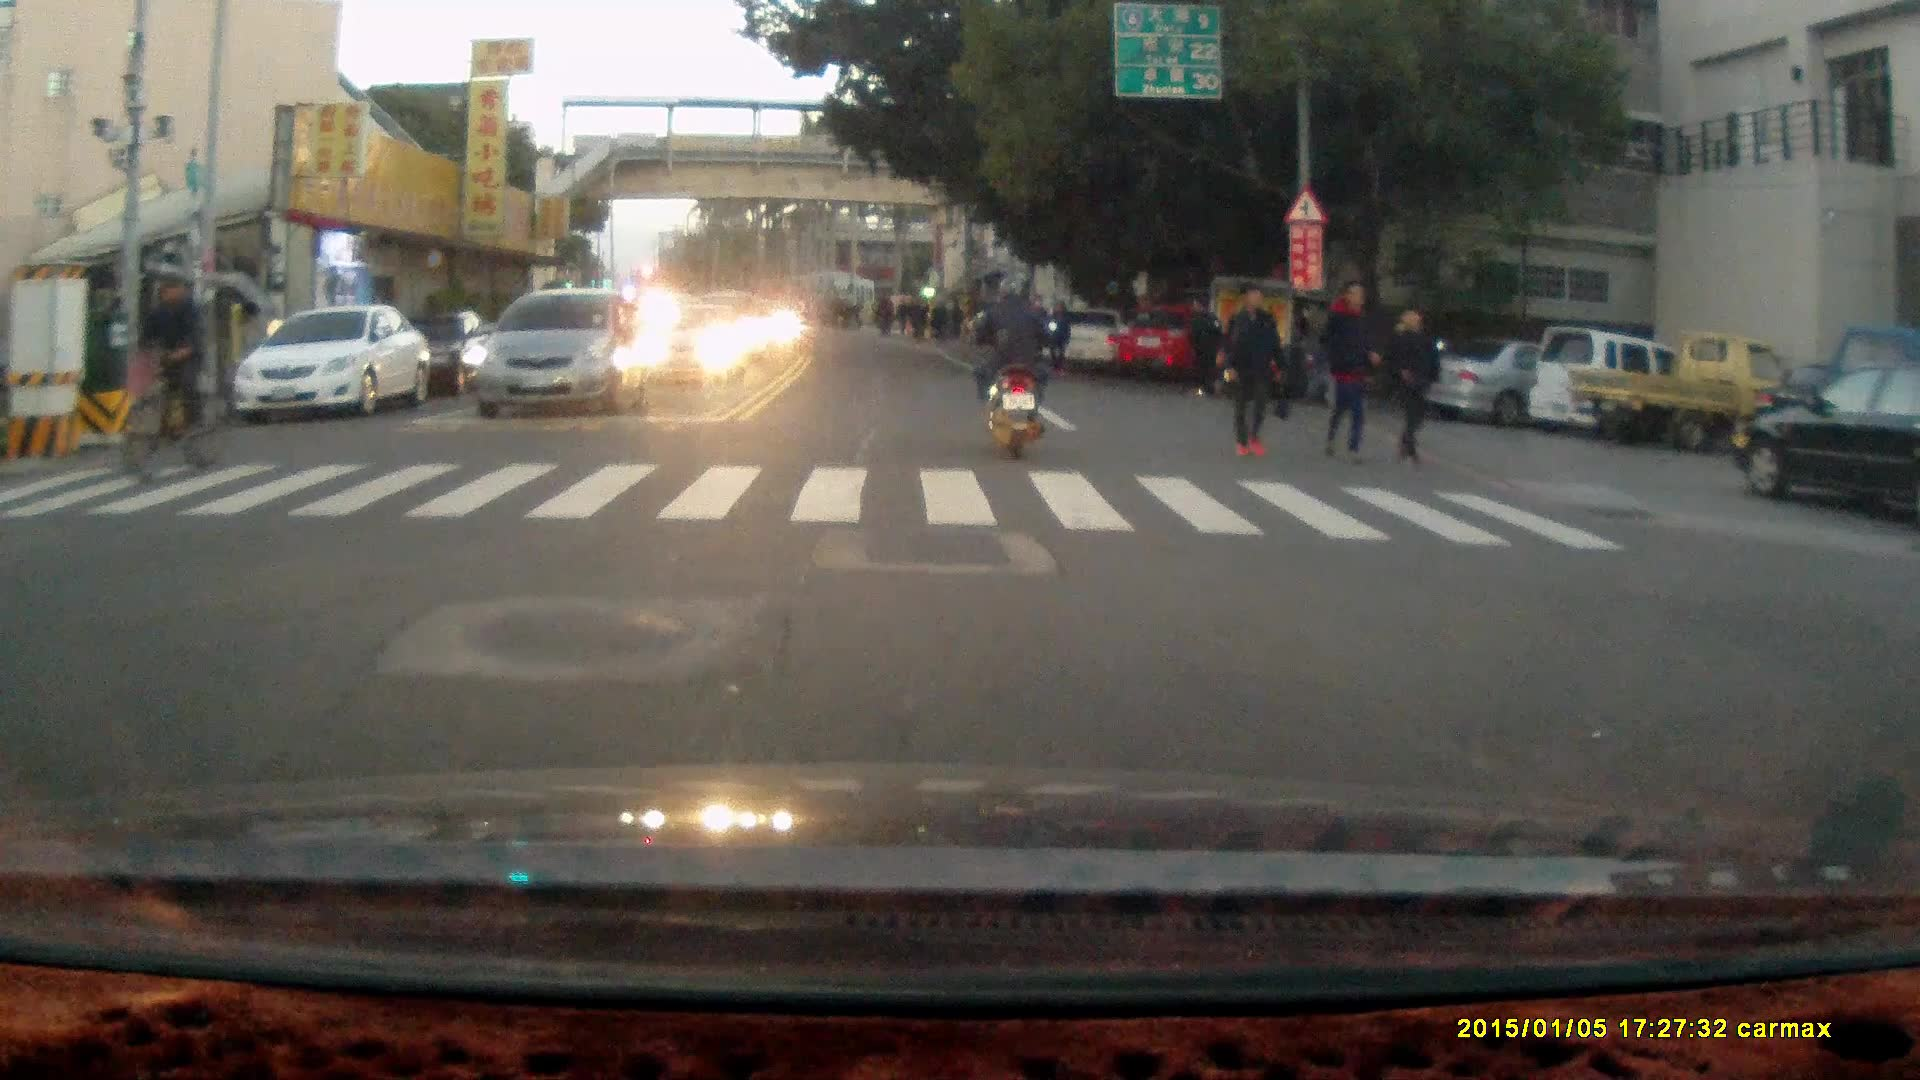pedestrian: (1315, 276, 1378, 472), (1219, 280, 1286, 459), (1385, 305, 1442, 471), (1183, 297, 1220, 403), (1045, 295, 1072, 377)
rider: (118, 269, 228, 487), (963, 277, 1053, 465)
vehicle: (1731, 364, 1920, 521), (1563, 331, 1803, 450), (463, 286, 649, 417), (232, 302, 430, 421), (1415, 335, 1641, 420), (385, 304, 510, 403), (640, 304, 744, 389), (1108, 302, 1211, 380)
